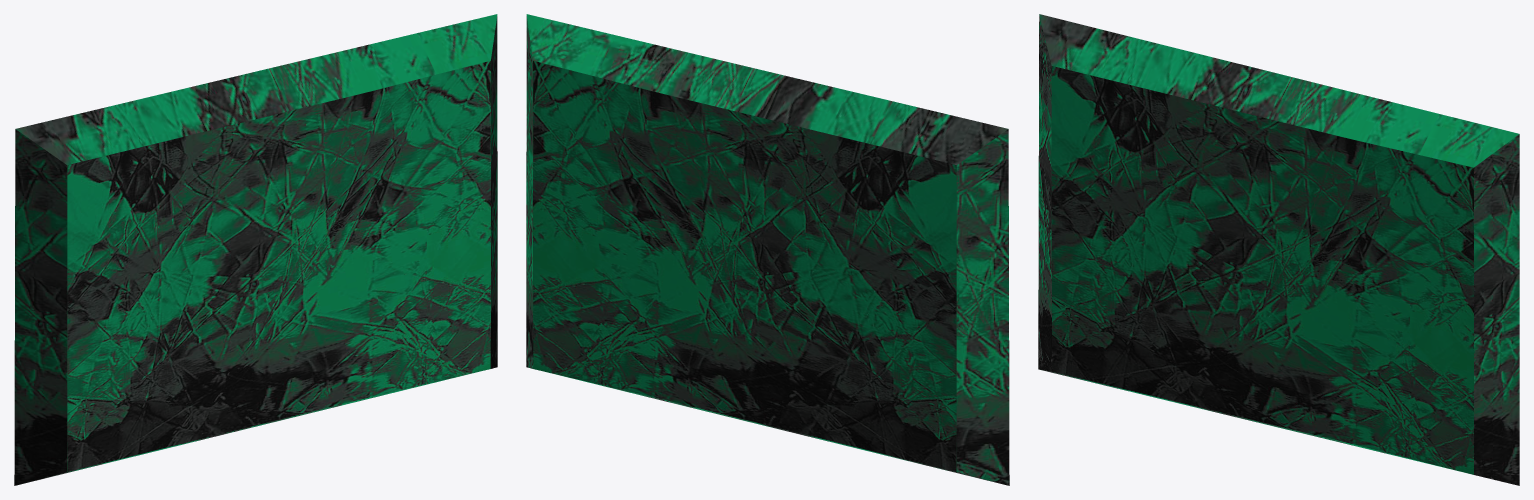
Rendered from esmerald32.FBX.
The picture shows the model from 3 angles, left to right: view 1: azimuth 30°, elevation 25°; view 2: azimuth 150°, elevation 25°; view 3: azimuth 330°, elevation 25°; orthographic projection.
Visible parts, largest first — view 1: Box002; view 2: Box002; view 3: Box002.
Part boxes in pixels (x1,y1,x2,y2): Box002: (14, 14, 497, 485); Box002: (526, 14, 1009, 485); Box002: (1038, 14, 1519, 485).
Size of the model in its own units: 1.97 by 1.39 by 0.2792.
1 material, 1 textured.
